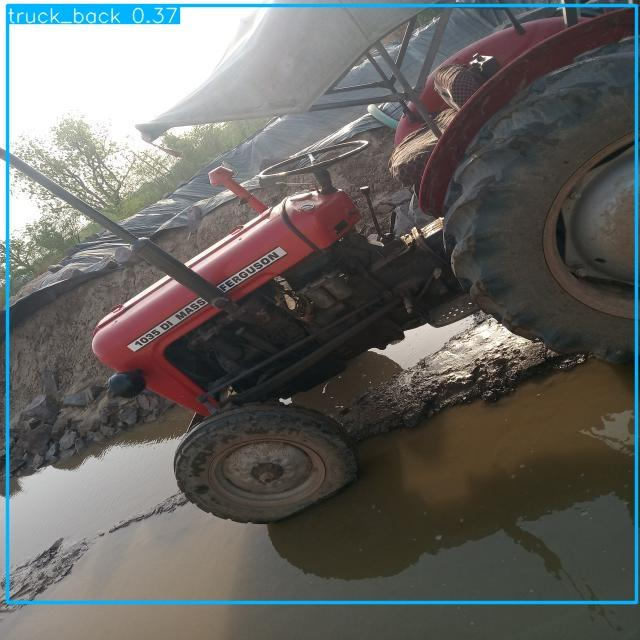tractor_back: (84, 0, 640, 539)
